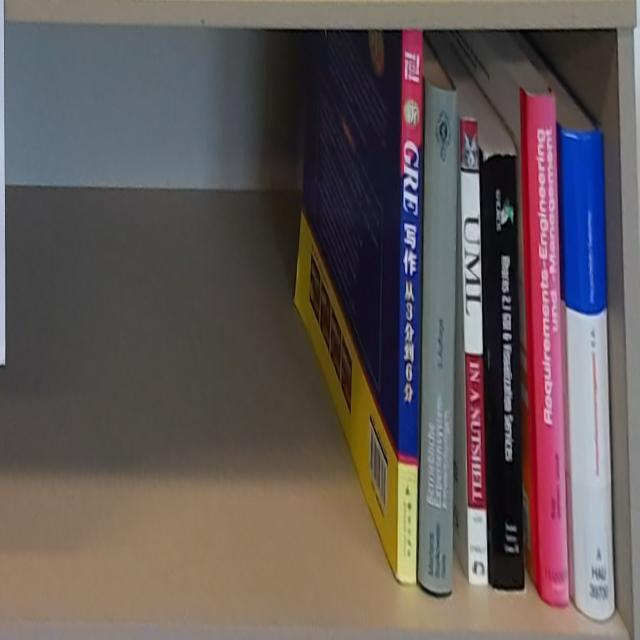Book Spine: (561, 129, 615, 627), (520, 91, 570, 613), (415, 80, 455, 595), (482, 156, 524, 590), (397, 28, 425, 586), (458, 116, 490, 587)
